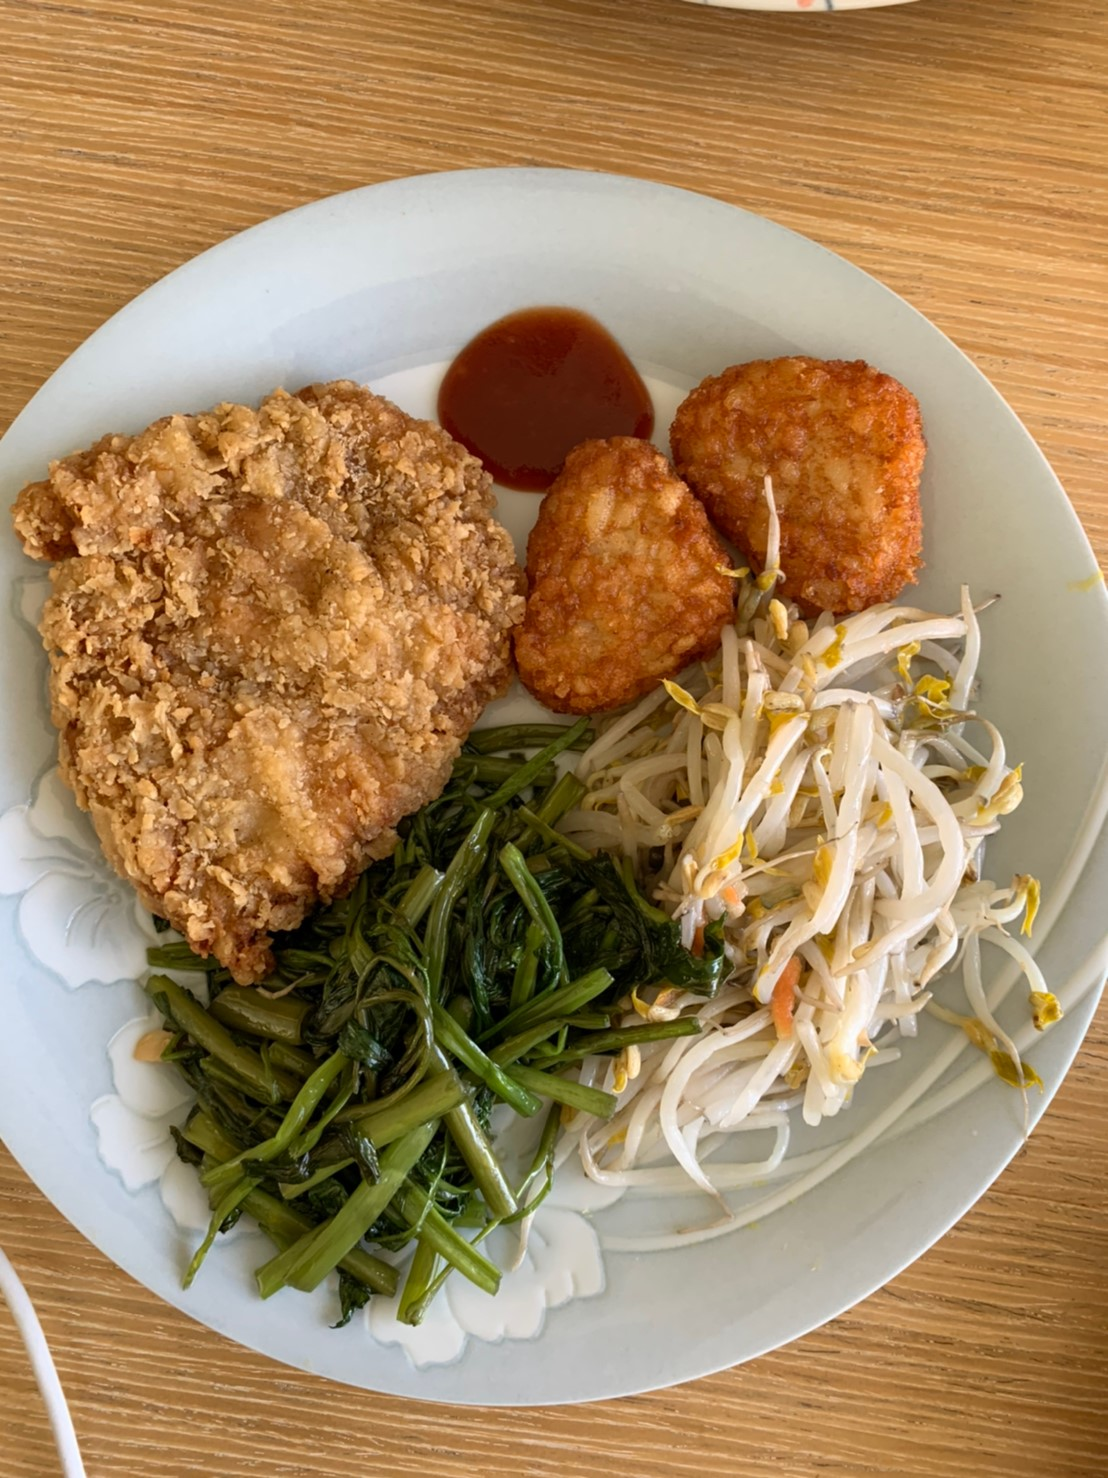fried_chicken: (10, 379, 519, 976)
mung_bean_sprouts: (649, 669, 1013, 1161)
triangle_hash_brown: (520, 353, 926, 709)
water_spinach: (159, 810, 651, 1299)
